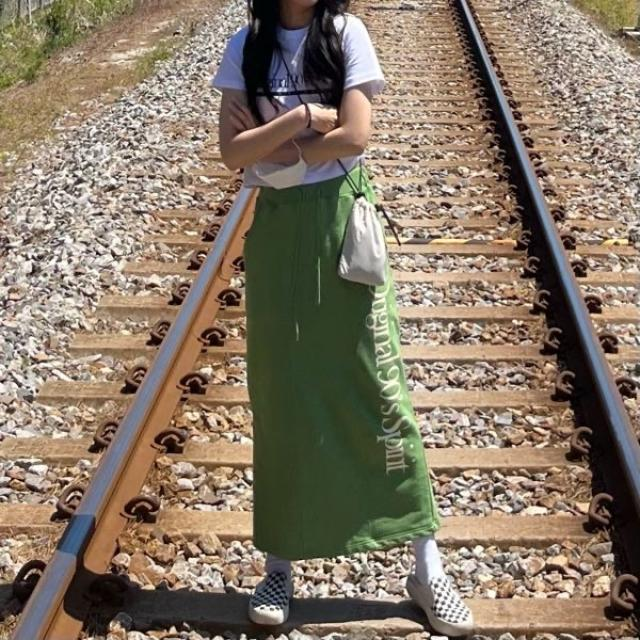shortsleeve: (210, 9, 385, 184)
skirt: (242, 166, 438, 555)
